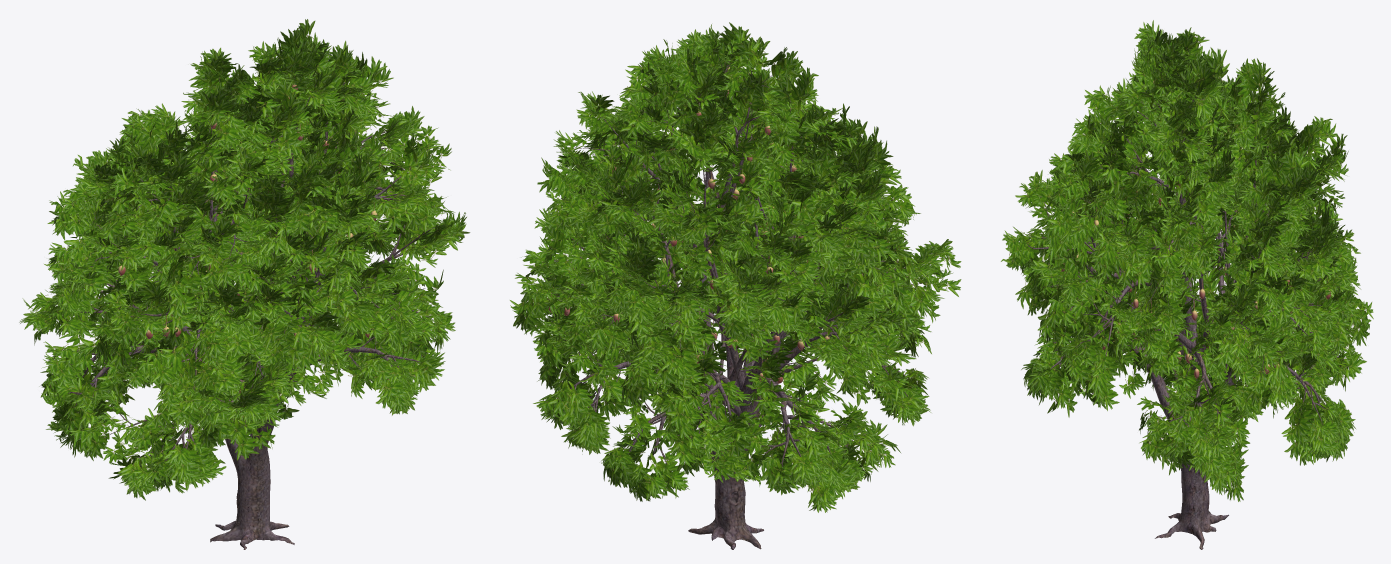
Rendered from paho.glb.
3 renders of one model, left to right at view 1: azimuth 30°, elevation 25°; view 2: azimuth 150°, elevation 25°; view 3: azimuth 270°, elevation 25°, orthographic. The views are drawn at different scales.
Parts seen in each view (by area): view 1: leaves, tree; view 2: leaves, tree; view 3: leaves, tree.
Part boxes in pixels (x1,y1,x2,y2): leaves: (19,19,469,500); tree: (43,71,439,549); leaves: (510,22,961,512); tree: (541,53,937,549); leaves: (1001,20,1373,501); tree: (1027,49,1343,549).
Size of the model in its own units: 5.77 by 6.75 by 4.53.
3 materials, 3 textured.
